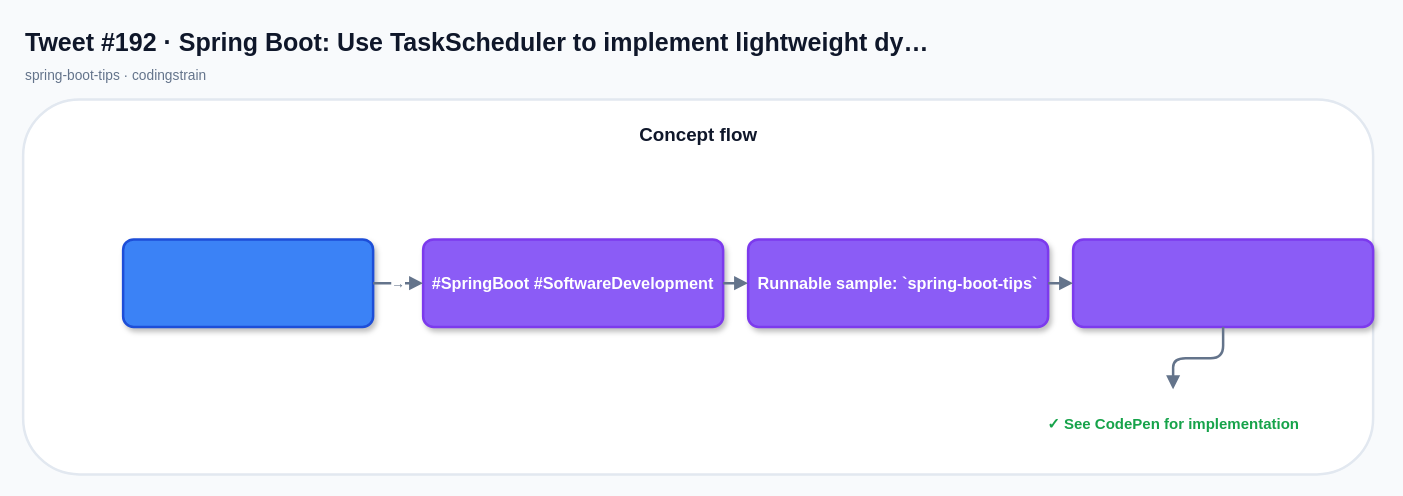
Some shapes in this 1403 by 496 pixel diagram are drawn without their labels. Here are the shapes that lost their labels. From the top down, the centre of each, then its label:
the point at 248,284: Problem / context
the point at 1223,284: Architecture diagram + Carbon CodePen below
